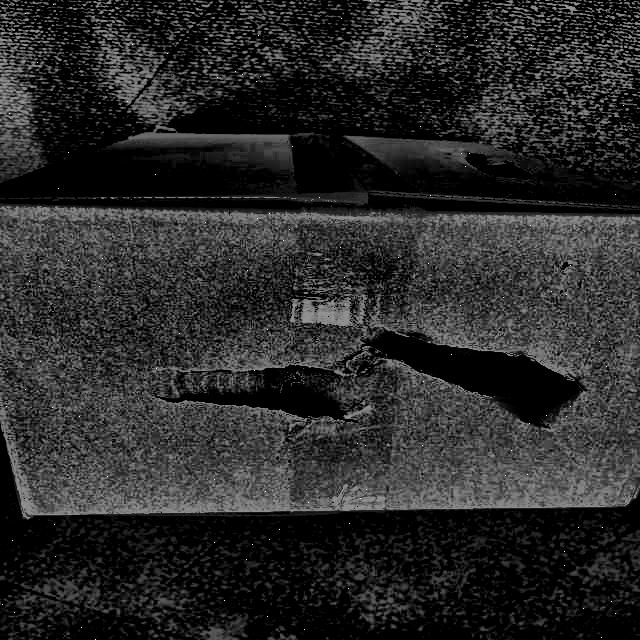box: (0, 96, 640, 529)
hole: (372, 331, 590, 423), (147, 350, 351, 424), (464, 145, 534, 181)
